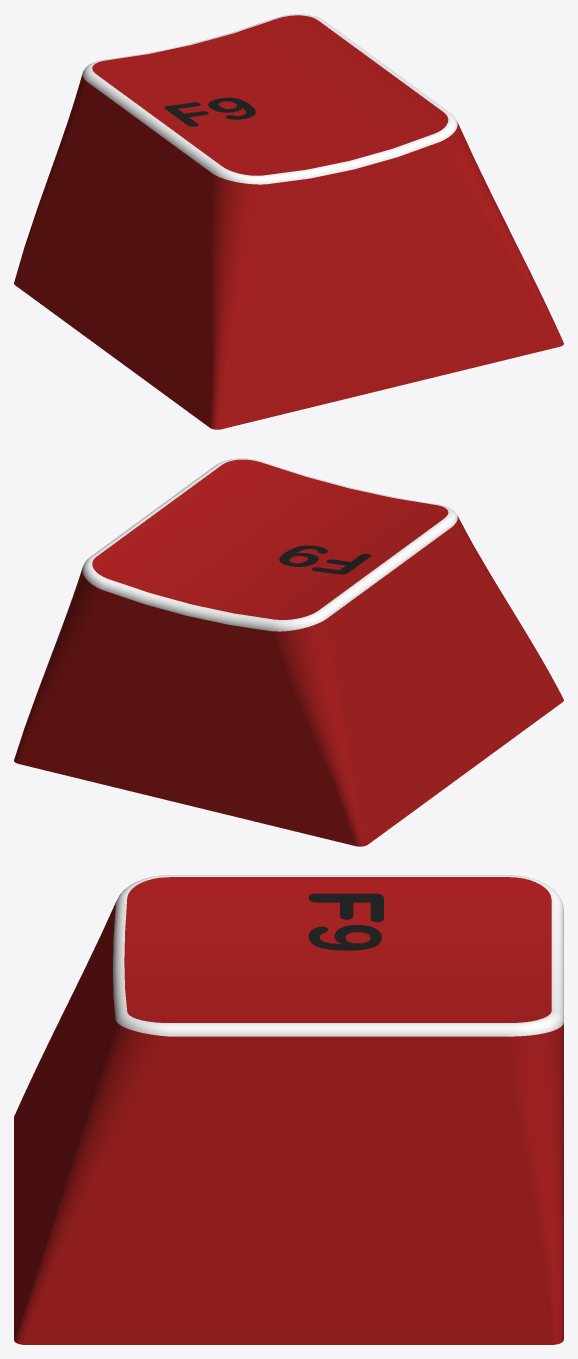
The picture shows the model from 3 angles, top to bottom: view 1: azimuth 30°, elevation 25°; view 2: azimuth 150°, elevation 25°; view 3: azimuth 270°, elevation 25°; orthographic projection. The views are drawn at different scales.
Parts seen in each view (by area): view 1: Body1; view 2: Body1; view 3: Body1.
Part boxes in pixels (left/top/right/bottom): Body1: left=14, top=14, right=563, bottom=429; Body1: left=14, top=458, right=563, bottom=846; Body1: left=14, top=875, right=563, bottom=1344.
Size of the model in its own units: 18 by 10.07 by 18.
